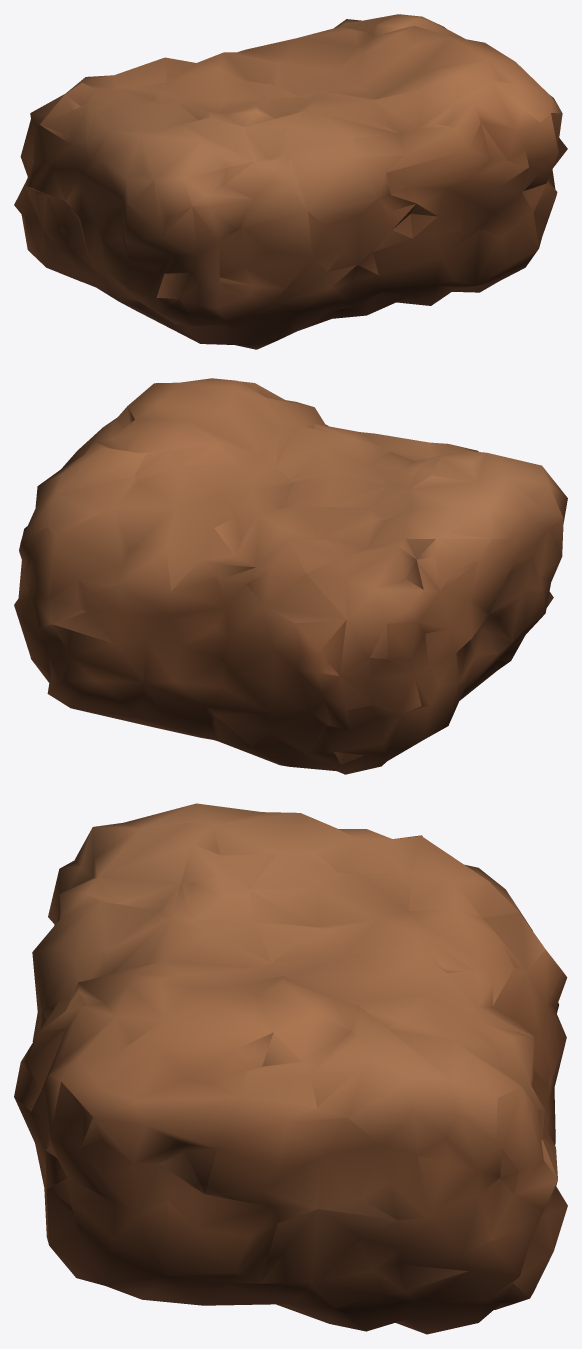
Rendered from canopy_bark_chip_b_lod1.glb.
3 views of the same model, one above another, from view 1: azimuth 30°, elevation 25°; view 2: azimuth 150°, elevation 25°; view 3: azimuth 270°, elevation 25° (orthographic). The views are drawn at different scales.
Parts seen in each view (by area): view 1: canopy_bark_chip_b.001; view 2: canopy_bark_chip_b.001; view 3: canopy_bark_chip_b.001.
Part boxes in pixels (bbox=[...]): canopy_bark_chip_b.001: bbox=[14, 14, 567, 349]; canopy_bark_chip_b.001: bbox=[14, 378, 567, 774]; canopy_bark_chip_b.001: bbox=[14, 803, 567, 1334].
Size of the model in its own units: 4.42 by 2.43 by 3.55.
